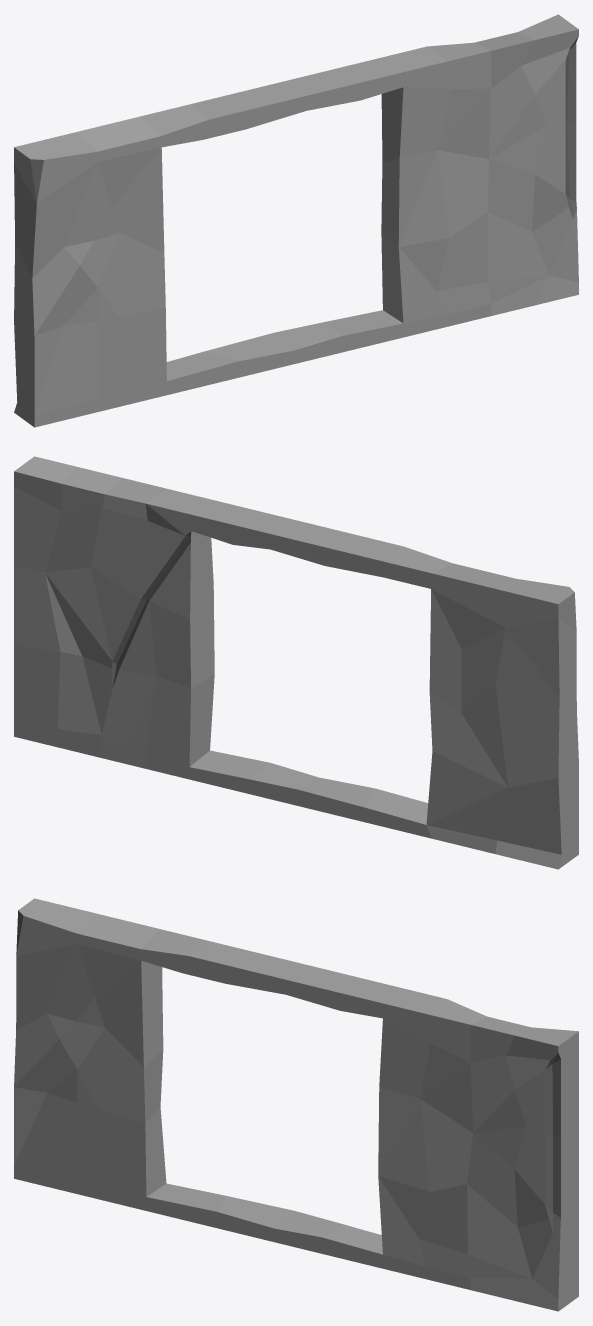
File: Fixed Mesh 6.fbx
The picture shows the model from 3 angles, top to bottom: view 1: azimuth 30°, elevation 25°; view 2: azimuth 150°, elevation 25°; view 3: azimuth 330°, elevation 25°; orthographic projection.
Parts seen in each view (by area): view 1: Cube.054; view 2: Cube.054; view 3: Cube.054.
Part boxes in pixels (x1,y1,x2,y2): Cube.054: [14, 14, 578, 427]; Cube.054: [14, 456, 578, 869]; Cube.054: [14, 898, 578, 1311].
Size of the model in its own units: 920 by 428 by 61.34.
